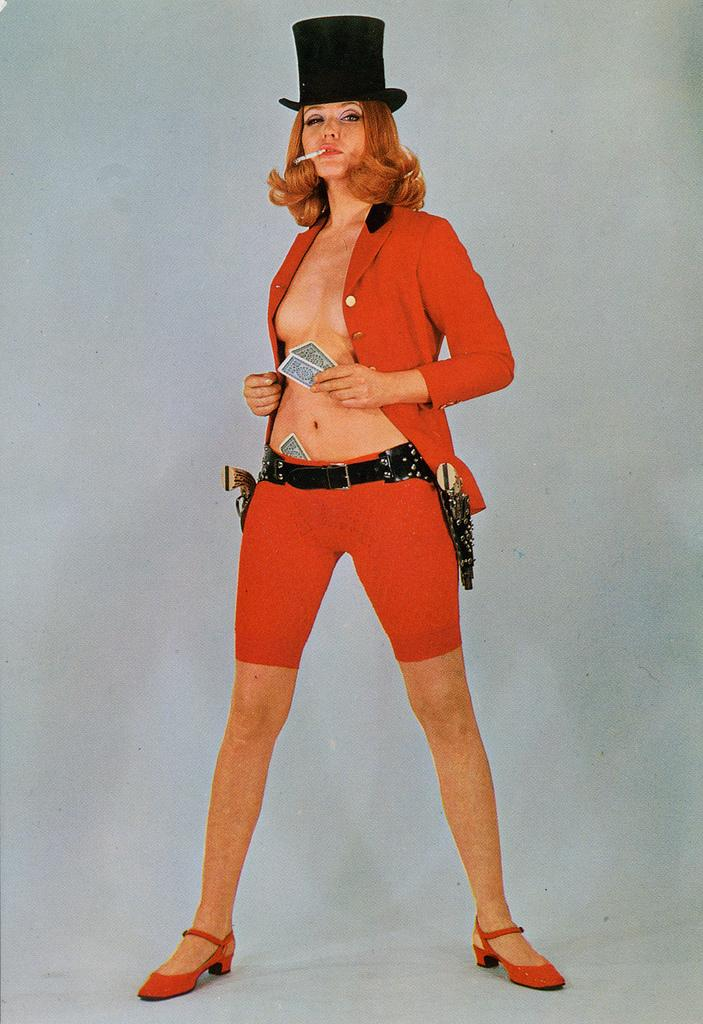Hat: (280, 14, 404, 114)
